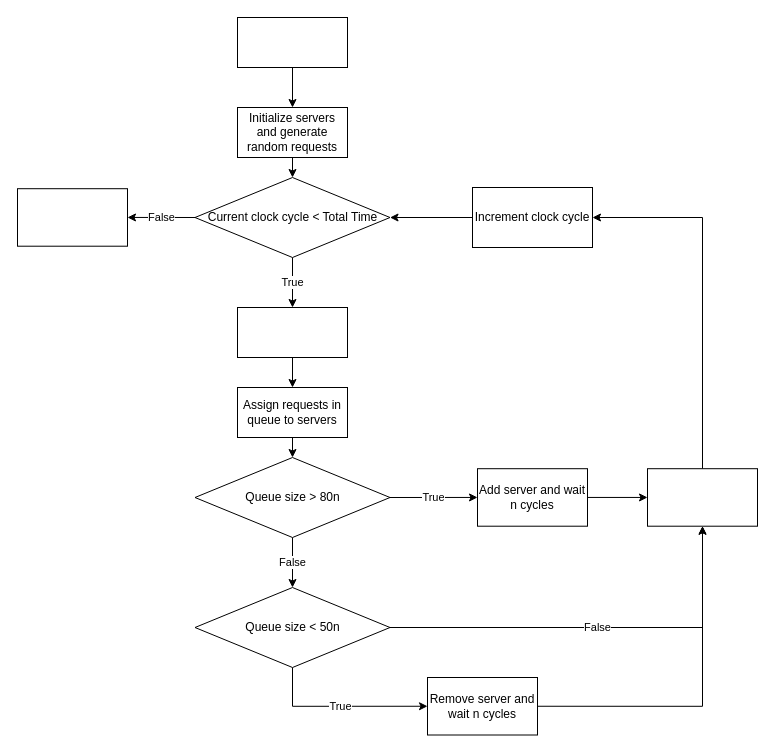
The diagram is 775 pixels wide and 753 high, and some of its shapes have lost their labels. The shapes that lost their labels are listed below. From the top down, each one's centre as x and y in pixels, then its label:
At (292,42): "Start".
At (72,217): "Exit".
At (292,332): "Add new requests".
At (702,497): "Servers process jobs".
